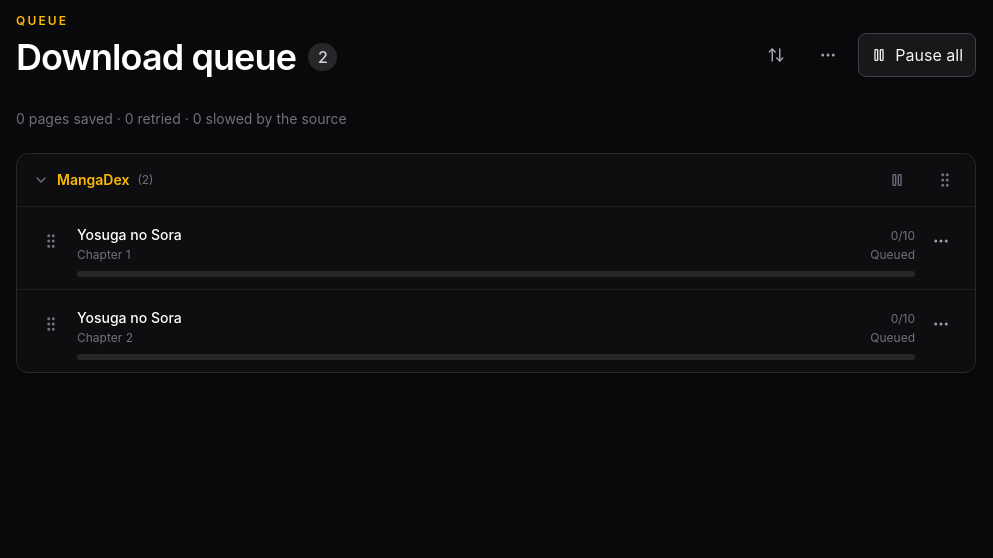
Test case: DownloadsPage › cancels a single row from its menu
Check: the text "Chapter 1" is shown, box x1=77 y1=247 x2=130 y2=262
Click the button named "Actions for Chapter 1 of Yosuga no Sora".
click(941, 241)  # box x1=919 y1=219 x2=963 y2=263
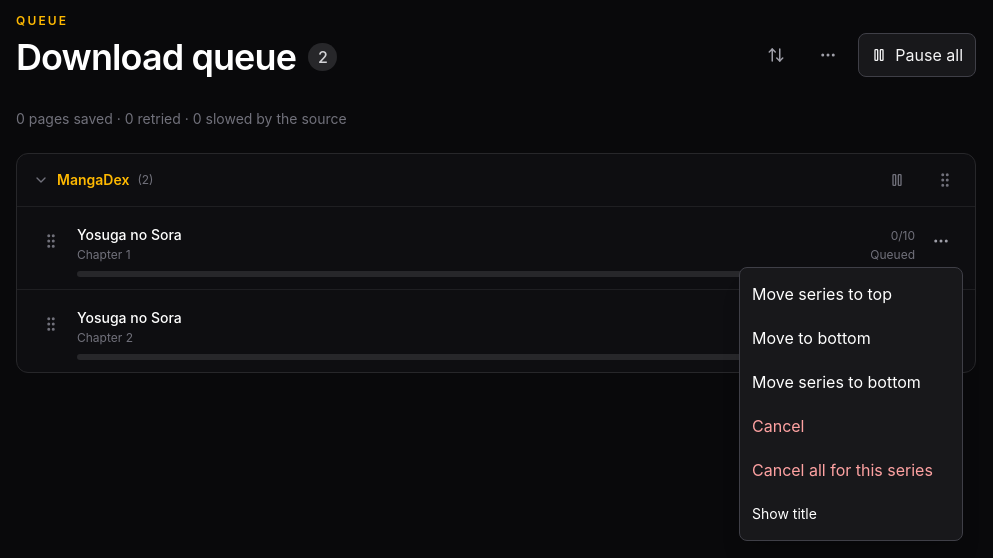
Click the menu item "Cancel".
click(851, 426)  # box x1=744 y1=404 x2=958 y2=448
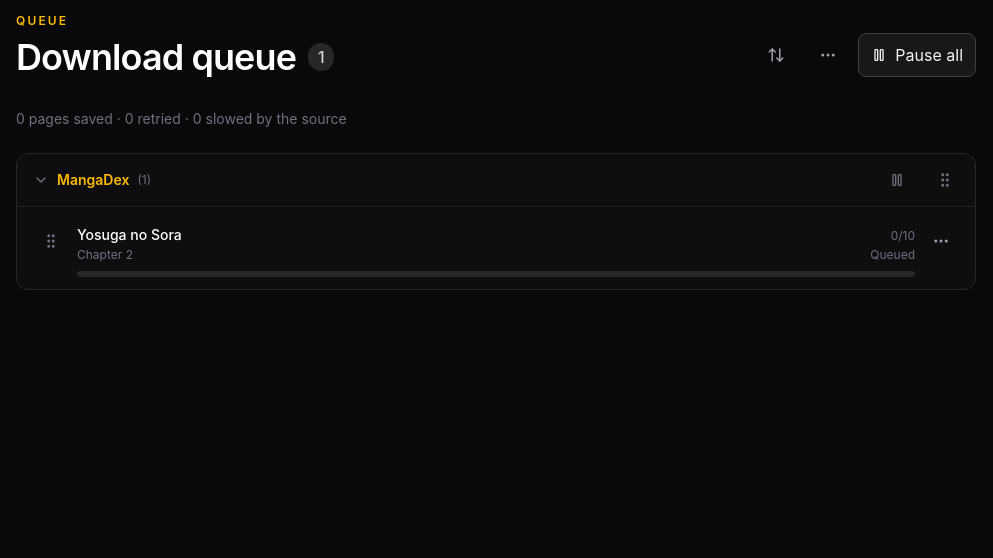
Check: the text "Chapter 1" is gone
